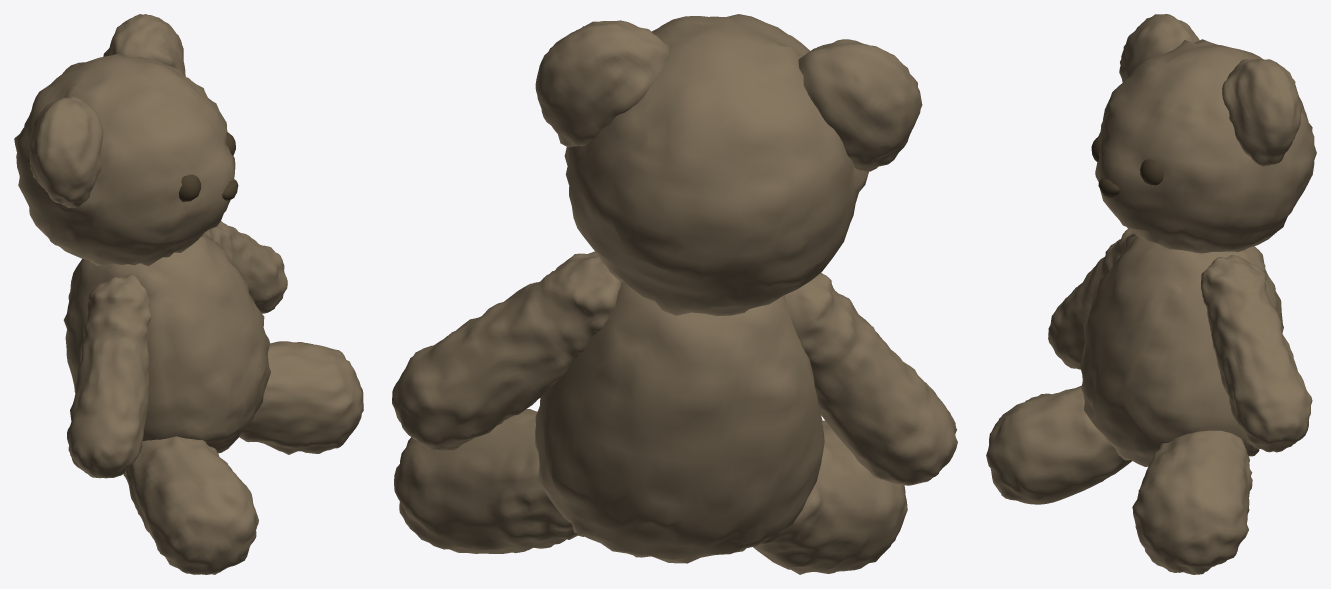
File: teddy.gltf
3 renders of one model, left to right at view 1: azimuth 30°, elevation 25°; view 2: azimuth 150°, elevation 25°; view 3: azimuth 270°, elevation 25°, orthographic. The views are drawn at different scales.
Parts seen in each view (by area): view 1: teddy; view 2: teddy; view 3: teddy.
Boxes of the visible parts, x1,y1,x2,y2 form: teddy: [14, 14, 363, 574]; teddy: [392, 14, 957, 574]; teddy: [986, 14, 1316, 574].
Size of the model in its own units: 4.9 by 6.25 by 4.05.
